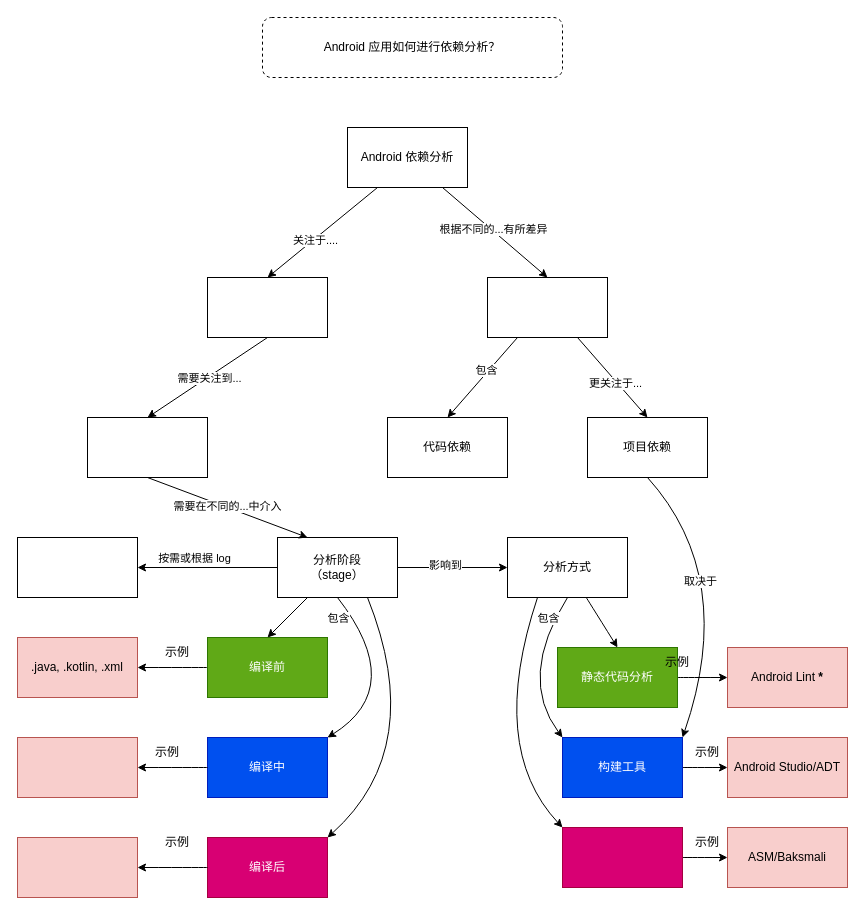
The diagram is 865 pixels wide and 915 high, and some of its shapes have lost their labels. The shapes that lost their labels are listed below. From the top down, each one's centre as x and y in pixels, then its label:
point 267,307: 生命周期
point 547,307: 依赖类型
point 147,447: 多样化变体/制品
point 77,567: 运行时
point 77,767: Gradle
point 77,867: Dex/Smali
point 622,857: 中间表示解析
